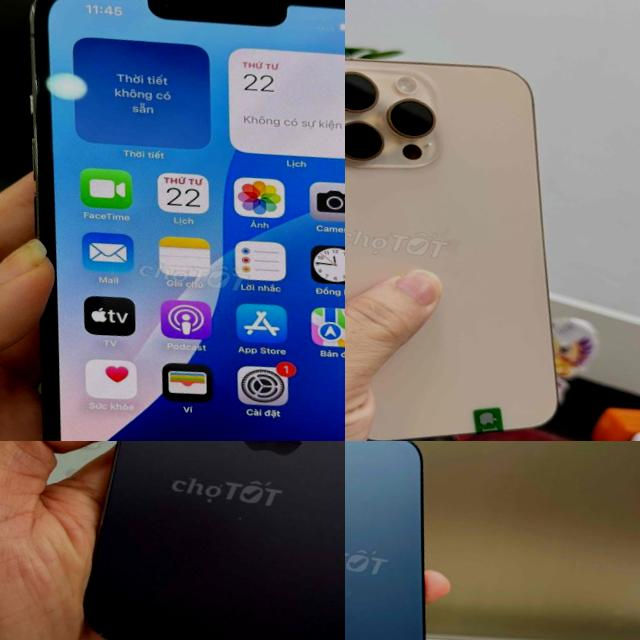gen_12_13: (0, 0, 345, 441), (345, 441, 471, 640)
gen_14: (75, 441, 345, 640)
gen_16: (345, 58, 558, 440)
